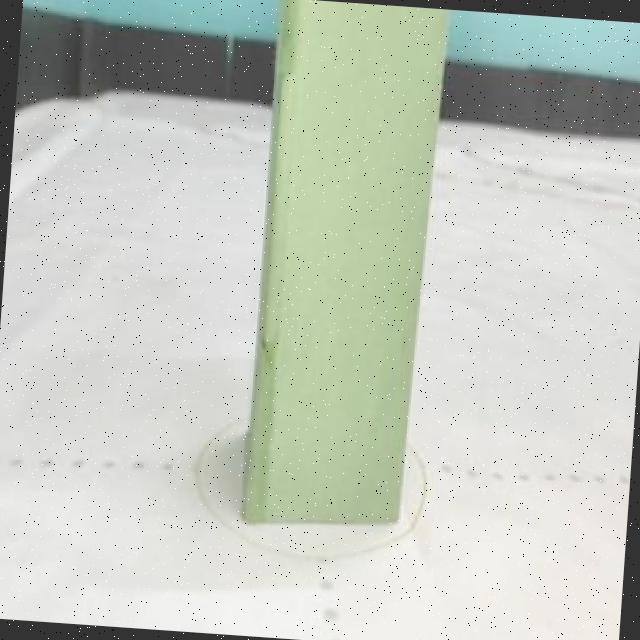greenbox: (233, 0, 439, 532)
